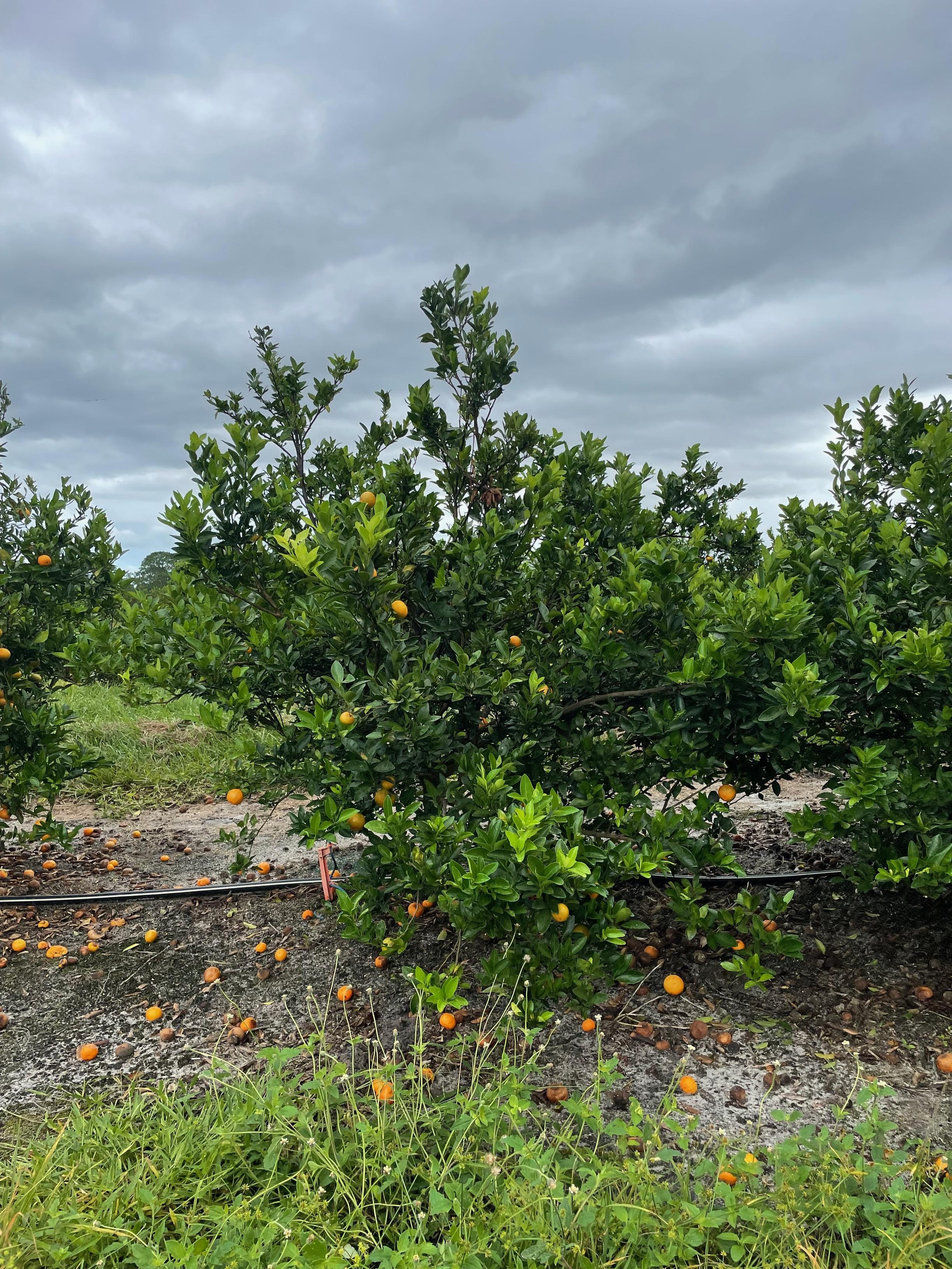fruit_on_ground: (352, 560, 379, 585), (387, 597, 411, 621), (548, 900, 572, 924), (344, 810, 368, 832), (373, 787, 397, 809), (716, 782, 739, 804), (336, 707, 358, 728), (569, 922, 592, 942), (12, 501, 34, 521), (357, 489, 378, 509), (224, 787, 245, 806), (472, 714, 491, 733), (378, 774, 398, 791), (406, 900, 424, 918), (506, 632, 524, 650), (35, 552, 54, 569), (0, 645, 12, 662), (28, 671, 42, 685), (0, 805, 12, 821), (10, 668, 23, 681)
fruit_on_tree: (731, 1151, 760, 1178), (373, 1080, 400, 1106), (661, 972, 686, 998), (545, 1081, 569, 1104), (931, 1153, 952, 1179), (716, 1163, 739, 1186), (113, 1040, 136, 1061), (933, 1050, 952, 1075), (689, 1017, 710, 1039), (913, 982, 936, 1002), (632, 1019, 656, 1038), (437, 1010, 458, 1031), (641, 942, 662, 962), (678, 1073, 698, 1094), (760, 915, 780, 935), (77, 1042, 98, 1061), (144, 1004, 164, 1023), (335, 984, 354, 1003), (713, 1028, 733, 1046), (202, 965, 222, 983), (475, 1032, 495, 1049), (224, 1028, 245, 1044), (580, 1015, 598, 1033), (728, 937, 747, 954), (158, 1025, 176, 1042), (239, 1014, 256, 1031), (654, 1036, 672, 1052), (46, 943, 65, 958), (372, 953, 390, 968), (272, 946, 288, 962), (10, 937, 27, 952), (420, 897, 435, 913), (143, 928, 160, 942), (0, 1010, 12, 1029), (257, 859, 272, 874), (256, 967, 271, 981), (195, 874, 211, 887), (26, 877, 40, 890), (301, 907, 315, 920), (254, 940, 268, 953), (84, 942, 99, 954), (78, 945, 92, 957), (106, 858, 120, 870), (65, 954, 80, 965), (22, 868, 36, 879), (42, 858, 56, 869), (177, 802, 189, 814), (35, 938, 48, 949), (81, 825, 94, 836), (37, 918, 51, 928), (0, 955, 10, 968), (183, 844, 194, 855), (39, 843, 51, 853), (0, 867, 10, 879), (159, 852, 170, 862), (104, 839, 116, 848), (131, 828, 142, 837)
